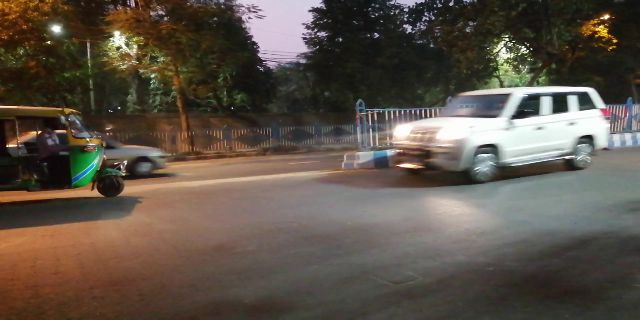Autorickshaw: (7, 104, 127, 199)
Van: (398, 82, 615, 181)
